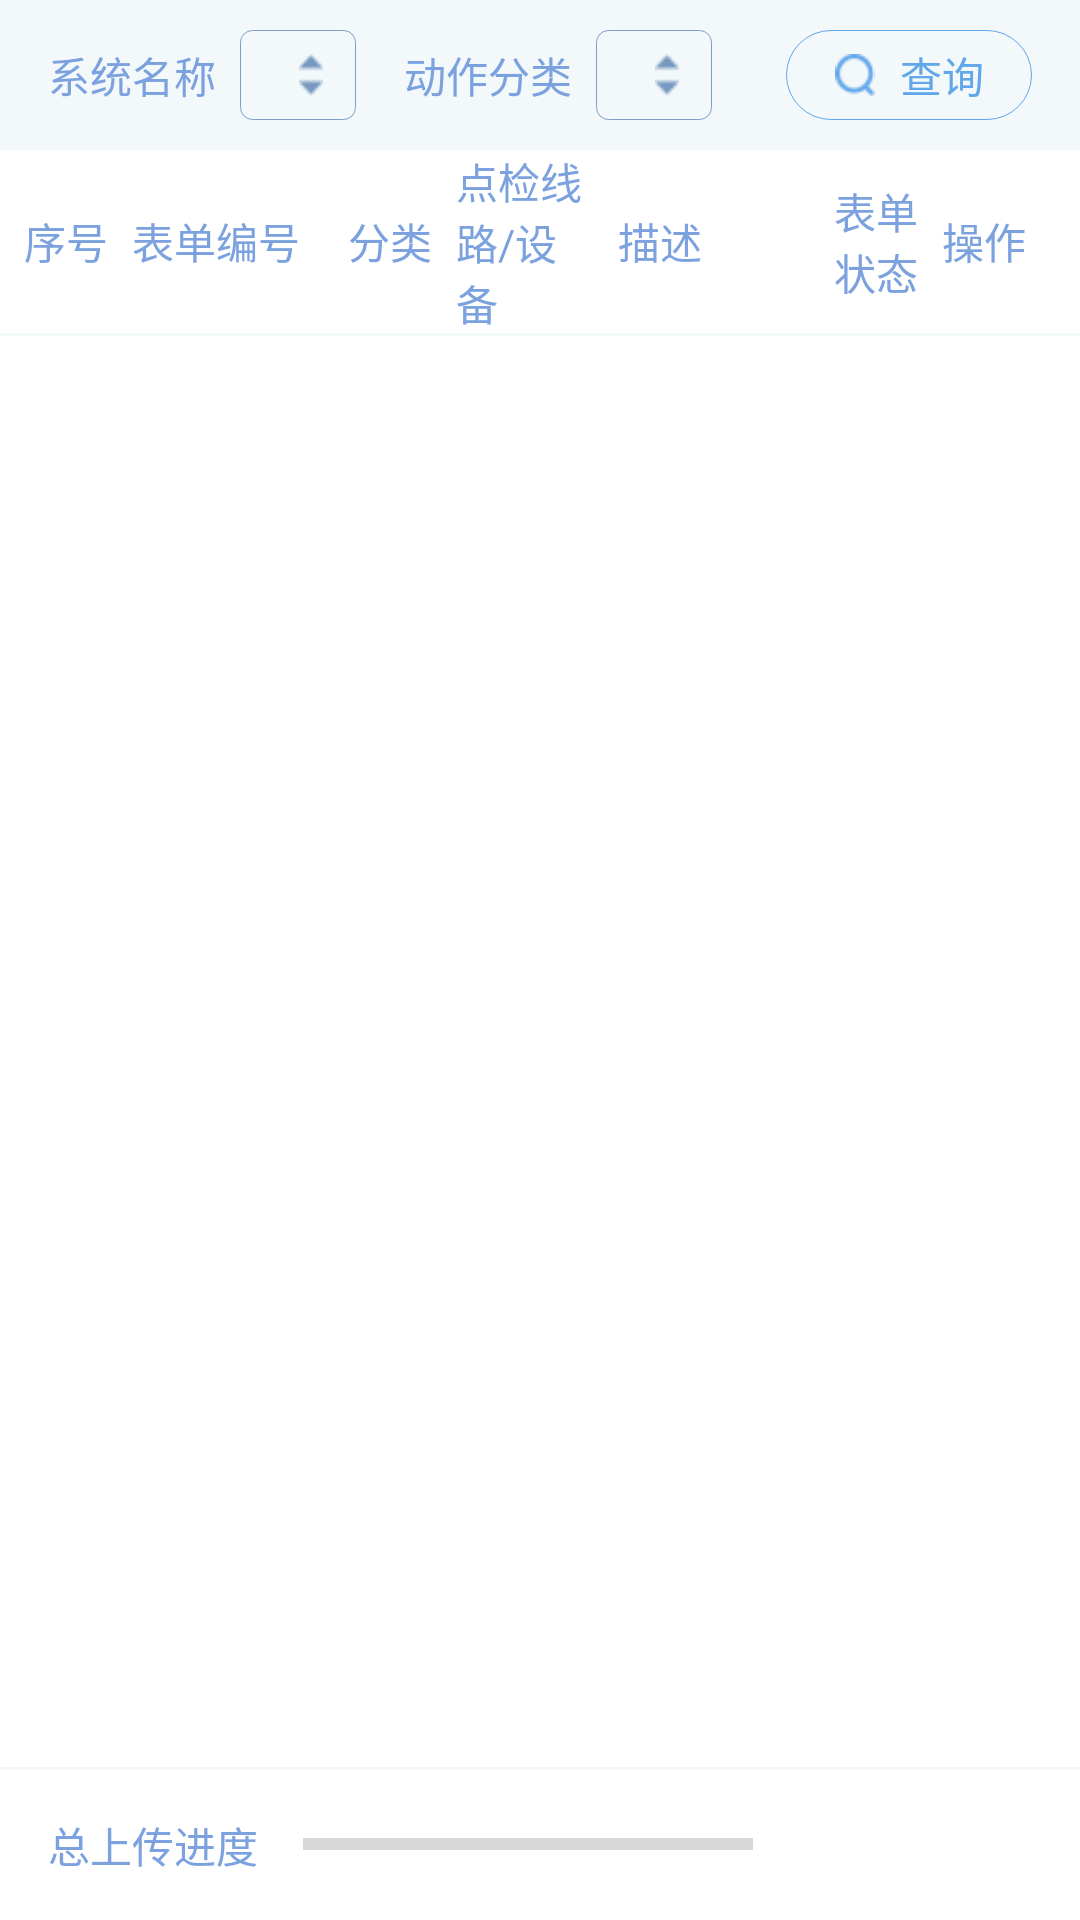

Named icons in this screenshot (1080×1920) and their bounding boxes, (x1, y1, x2, y2):
dropdown: (299, 54, 323, 95), (655, 54, 679, 95)
